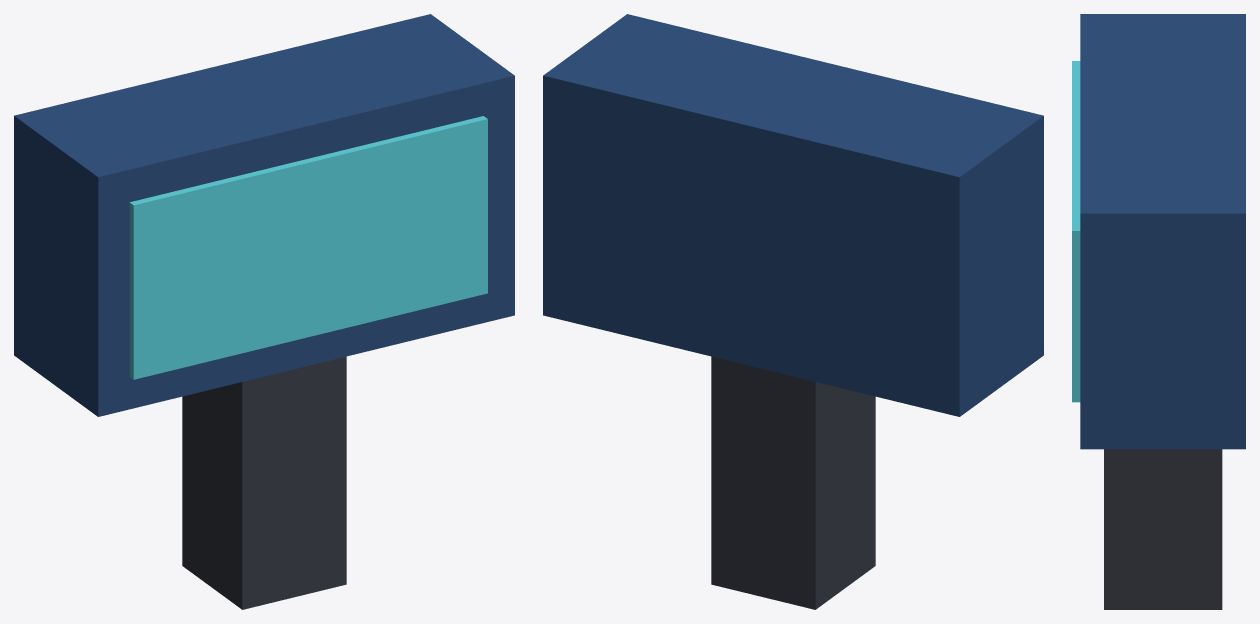
File: mdl_panel_plot.fbx
3 views of the same model, side by side, from view 1: azimuth 30°, elevation 25°; view 2: azimuth 150°, elevation 25°; view 3: azimuth 270°, elevation 25° (orthographic).
Visible parts, largest first — view 1: mdl_panel_plot; view 2: mdl_panel_plot; view 3: mdl_panel_plot.
Boxes of the visible parts, bbox=[...] form: mdl_panel_plot: bbox=[14, 14, 514, 609]; mdl_panel_plot: bbox=[543, 14, 1043, 609]; mdl_panel_plot: bbox=[1072, 14, 1245, 609].
Bounding box in the file's own units: 400 × 440 × 147.
